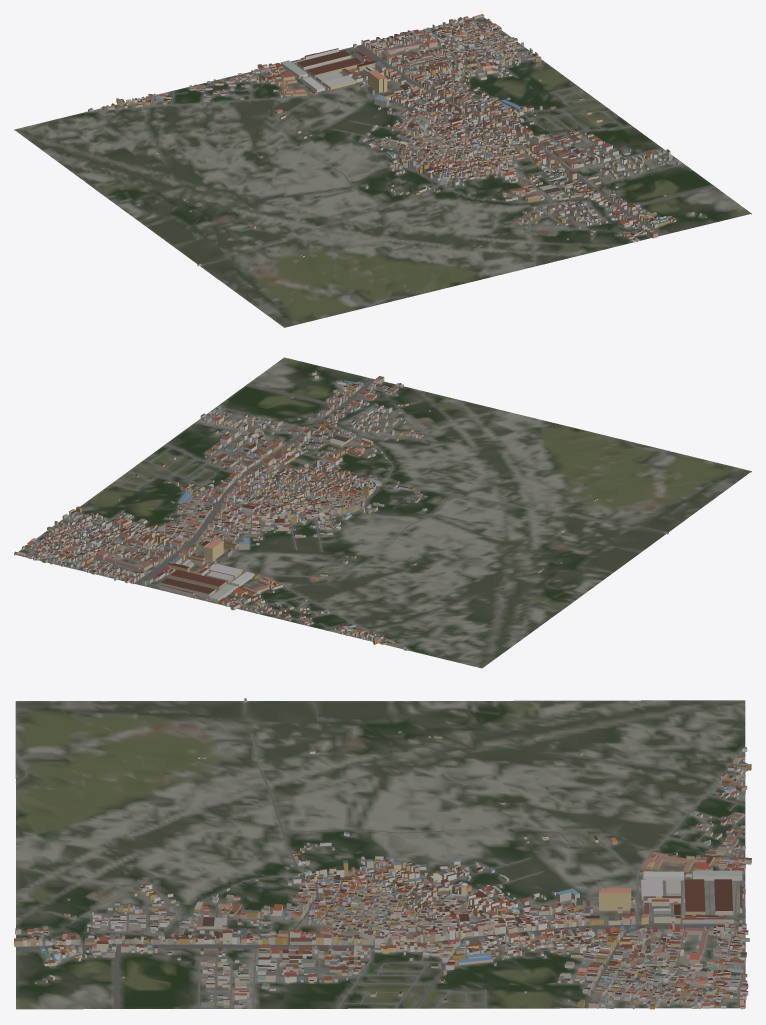
The picture shows the model from 3 angles, top to bottom: view 1: azimuth 30°, elevation 25°; view 2: azimuth 150°, elevation 25°; view 3: azimuth 270°, elevation 25°; orthographic projection. The views are drawn at different scales.
Parts seen in each view (by area): view 1: ground, buildings, roads; view 2: ground, buildings, roads; view 3: ground, buildings, roads.
Boxes of the visible parts, bbox=[...] form: ground: bbox=[14, 17, 751, 327]; buildings: bbox=[88, 14, 706, 266]; roads: bbox=[86, 17, 715, 326]; ground: bbox=[14, 357, 751, 668]; buildings: bbox=[14, 370, 668, 650]; roads: bbox=[25, 378, 750, 650]; ground: bbox=[15, 700, 745, 1009]; buildings: bbox=[14, 698, 751, 1009]; roads: bbox=[15, 701, 745, 1008].
Bounding box in the file's own units: 1409 × 41.48 × 1418.
